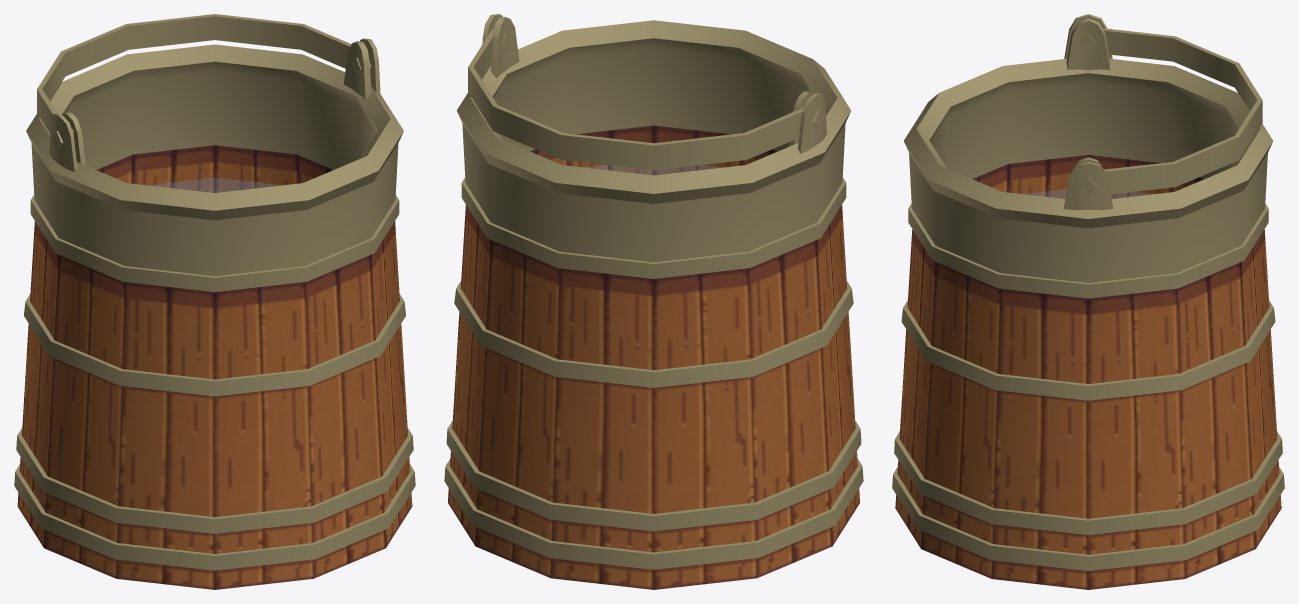
The model's file is Bucket.fbx.
The picture shows the model from 3 angles, left to right: view 1: azimuth 30°, elevation 25°; view 2: azimuth 150°, elevation 25°; view 3: azimuth 270°, elevation 25°; orthographic projection. The views are drawn at different scales.
Parts seen in each view (by area): view 1: Bucket; view 2: Bucket; view 3: Bucket.
Part boxes in pixels (x1,y1,x2,y2): Bucket: [14, 14, 415, 589]; Bucket: [444, 14, 863, 589]; Bucket: [892, 14, 1284, 589].
Size of the model in its own units: 30.5 by 35.97 by 30.5.
